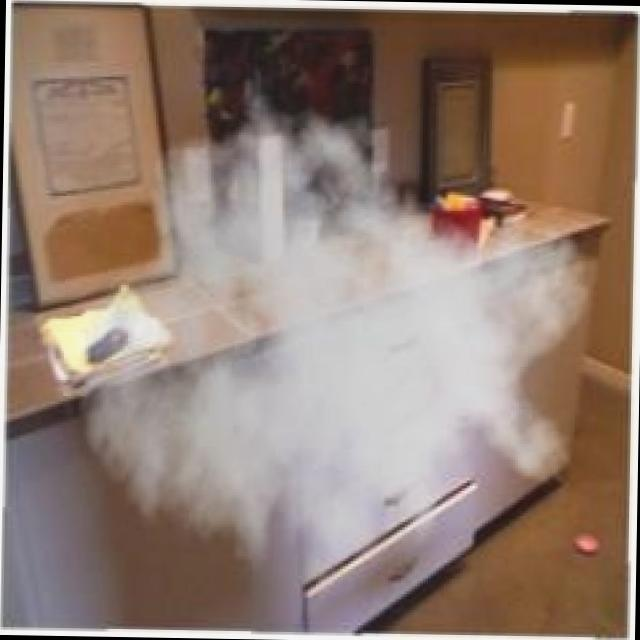smoke: (132, 120, 552, 502)
